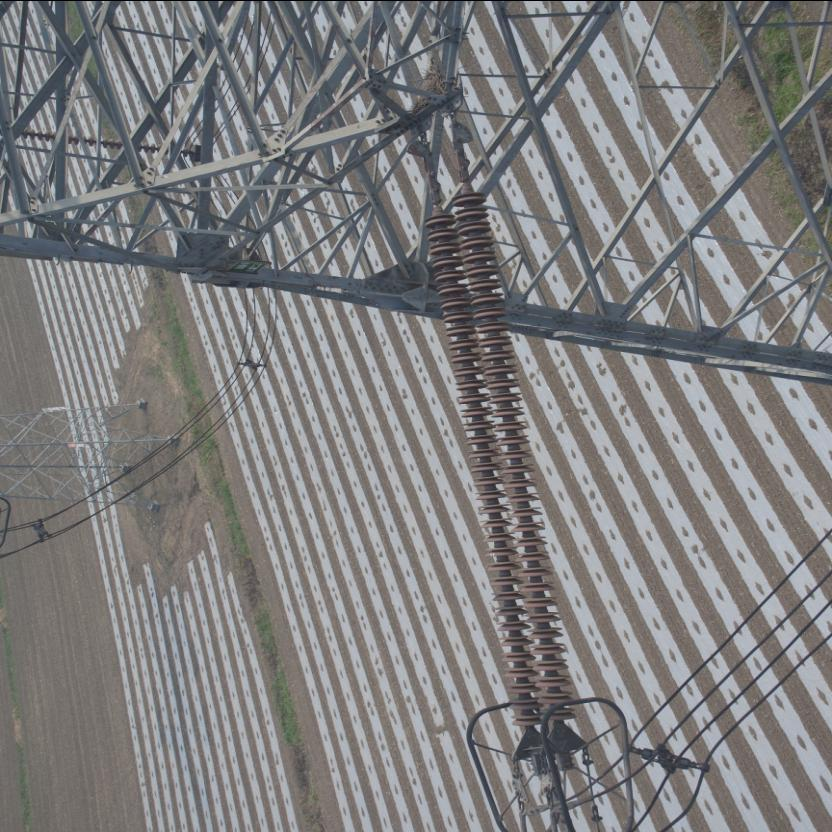insulator: (417, 171, 576, 733)
